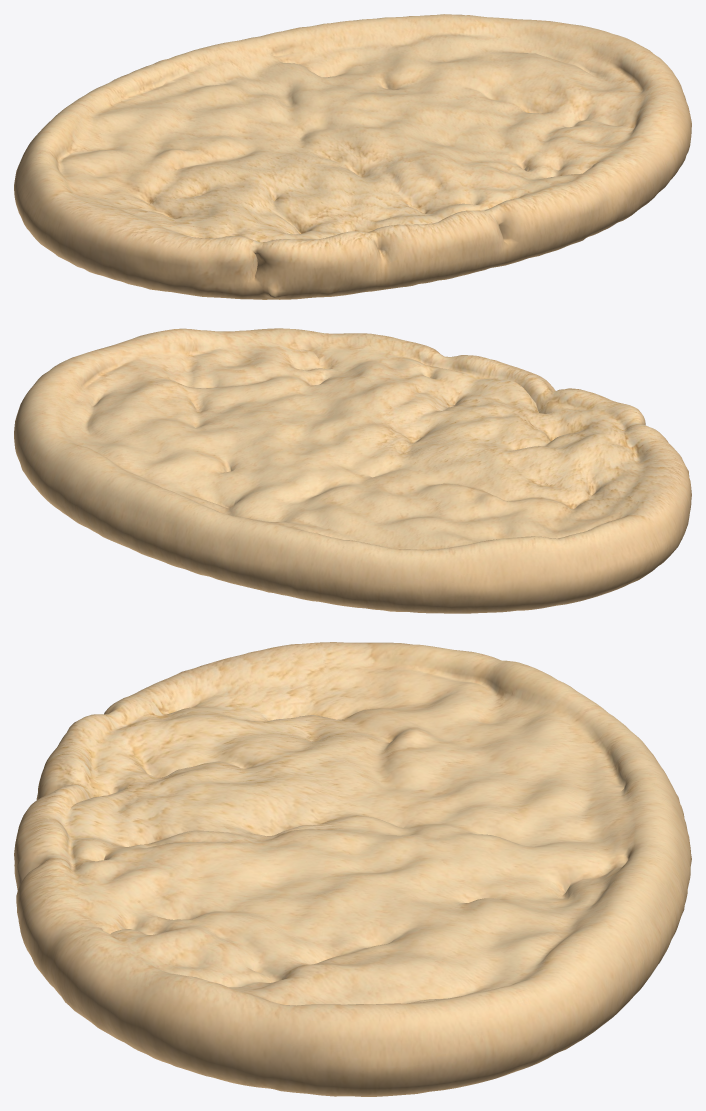
The picture shows the model from 3 angles, top to bottom: view 1: azimuth 30°, elevation 25°; view 2: azimuth 150°, elevation 25°; view 3: azimuth 270°, elevation 25°; orthographic projection. The views are drawn at different scales.
Visible parts, largest first — view 1: tripo_node_4926e659; view 2: tripo_node_4926e659; view 3: tripo_node_4926e659.
Part boxes in pixels (x1,y1,x2,y2): tripo_node_4926e659: [14, 14, 691, 299]; tripo_node_4926e659: [14, 328, 691, 613]; tripo_node_4926e659: [14, 642, 691, 1096].
Bounding box in the file's own units: 99.73 × 10.4 × 70.96.
Materials: 1 (1 with a texture image).
